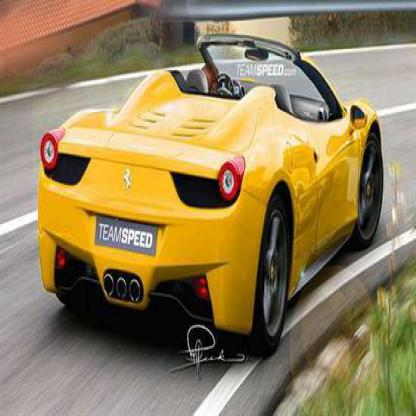Vehicle: (30, 32, 391, 368)
